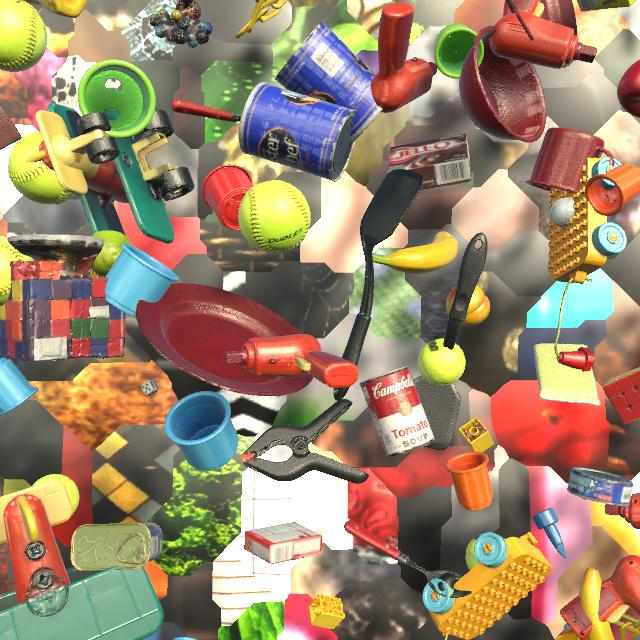ycb_002_master_chef_can: (275, 21, 383, 143), (239, 82, 357, 182)
ycb_004_sugar_box: (577, 0, 636, 11)
ycb_005_tomato_soup_can: (359, 366, 435, 457)
ycb_006_mustard_bottle: (24, 0, 88, 18)
ycb_007_tuna_fish_can: (567, 467, 633, 507)
ycb_008_pudding_box: (387, 133, 471, 190)
ycb_009_gelatin_box: (244, 522, 323, 564)
ycb_010_potted_meat_can: (70, 522, 162, 571)
ycb_011_banana: (373, 231, 458, 274), (579, 568, 614, 640)
ycb_013_apple: (617, 60, 640, 118)
ycb_015_peach: (446, 285, 490, 326)
ycb_016_pear: (91, 230, 131, 277)
